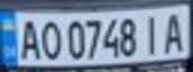0: (63, 16, 84, 60)
4: (100, 15, 121, 58)
7: (81, 16, 103, 60)
8: (118, 14, 142, 57)
A: (160, 8, 190, 54), (12, 16, 42, 61)
I: (139, 11, 166, 56)
O: (36, 17, 63, 61)
